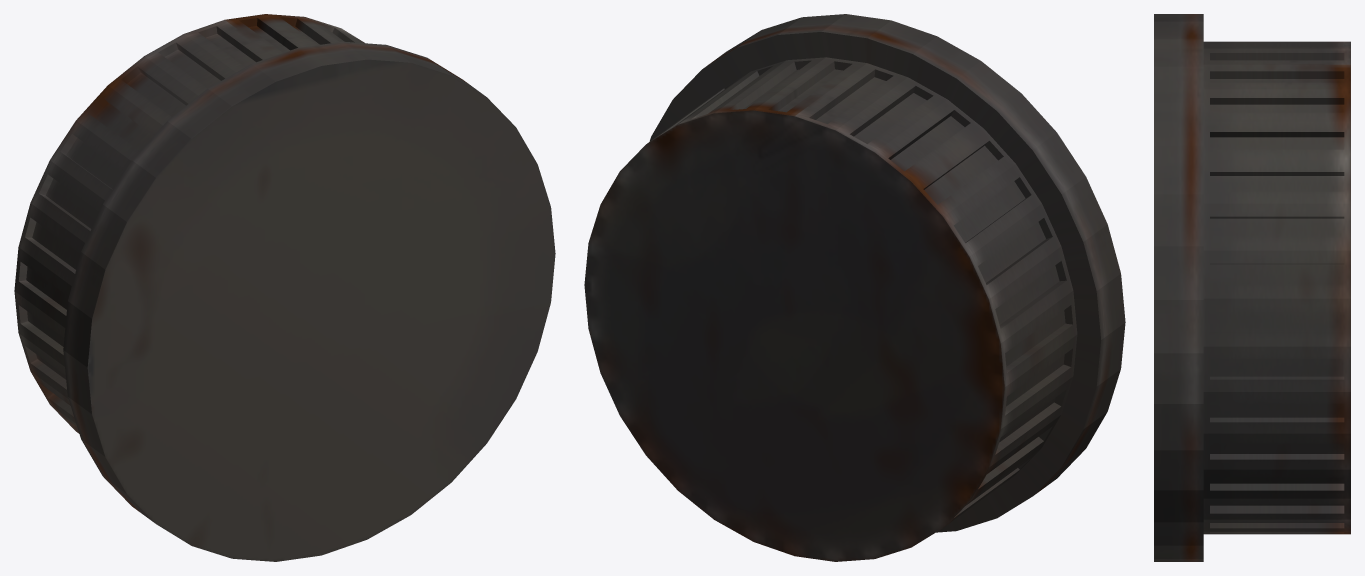
The model's file is Perilla_02.fbx.
The picture shows the model from 3 angles, left to right: view 1: azimuth 30°, elevation 25°; view 2: azimuth 150°, elevation 25°; view 3: azimuth 270°, elevation 25°; orthographic projection.
Visible parts, largest first — view 1: Perilla01; view 2: Perilla01; view 3: Perilla01.
Part boxes in pixels (x1,y1,x2,y2): Perilla01: [14, 14, 555, 561]; Perilla01: [584, 14, 1125, 561]; Perilla01: [1154, 14, 1350, 561].
Size of the model in its own units: 8.04 by 8.04 by 2.89.
Materials: 1 (1 with a texture image).
